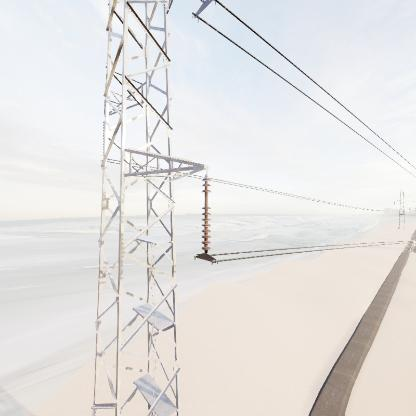insulator: (200, 175, 215, 256)
